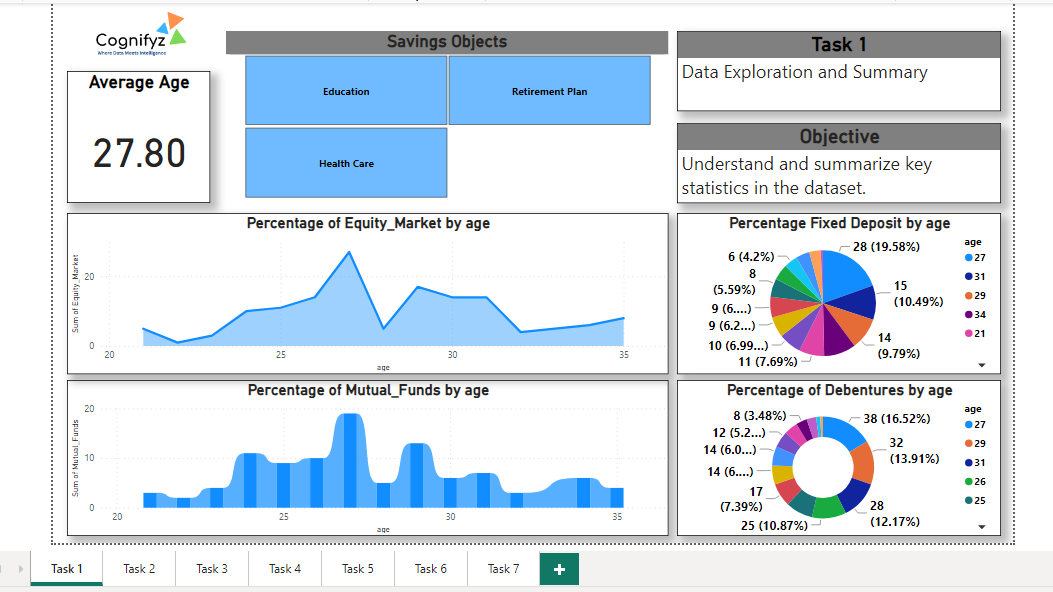

What the dashboard file says about the page in this screenshot:
{"tool":"powerbi","page":{"name":"Task 1 ","canvas":[1280,720],"ordinal":0},"visuals":[{"type":"textbox","title":"Task 1","box":[831.9,37.1,432.4,107],"z":0},{"type":"textbox","title":"Objective","box":[831.9,159.8,432.4,107],"z":1000},{"type":"card","title":"Average Age","fields":{"Values":["Avg(Data_set 2.age)"]},"box":[18.7,90.7,190.7,176],"z":2000},{"type":"ribbonChart","title":"Percentage of Mutual_Funds by age","fields":{"Category":["Data_set 2.age"],"Y":["Sum(Data_set 2.Mutual_Funds)"]},"box":[18.6,502.3,802,208.3],"z":4000},{"type":"image","box":[0,0,231.2,91.3],"z":9000},{"type":"areaChart","title":"Percentage of Equity_Market by age","fields":{"Category":["Data_set 2.age"],"Y":["Sum(Data_set 2.Equity_Market)"]},"box":[18.6,279.7,802,215.5],"z":9002},{"type":"pieChart","title":"Percentage Fixed Deposit by age","fields":{"Category":["Data_set 2.age"],"Y":["Sum(Data_set 2.Fixed_Deposits)"]},"box":[831.9,279.7,432.4,215.5],"z":9003},{"type":"donutChart","title":"Percentage of Debentures by age","fields":{"Category":["Data_set 2.age"],"Y":["Sum(Data_set 2.Debentures)"]},"box":[831.9,502.3,432.4,208.3],"z":9004},{"type":"slicer","title":"Savings Objects","fields":{"Values":["Data_set 2.What are your savings objectives?"]},"box":[230.6,37.5,589.9,228.8],"z":9005}]}

Visuals, with their boxes on the page's 1280x720 design canvas (x1, y1, x2, y2). These are canvas units, not pixel positions in the 1053x592 screenshot, which may show the page scaled, cropped or inside an application window:
"Task 1" textbox: region(832, 37, 1264, 144)
"Objective" textbox: region(832, 160, 1264, 267)
"Average Age" card: region(19, 91, 209, 267)
"Percentage of Mutual_Funds by age" ribbonChart: region(19, 502, 821, 711)
image: region(0, 0, 231, 91)
"Percentage of Equity_Market by age" areaChart: region(19, 280, 821, 495)
"Percentage Fixed Deposit by age" pieChart: region(832, 280, 1264, 495)
"Percentage of Debentures by age" donutChart: region(832, 502, 1264, 711)
"Savings Objects" slicer: region(231, 38, 820, 266)
